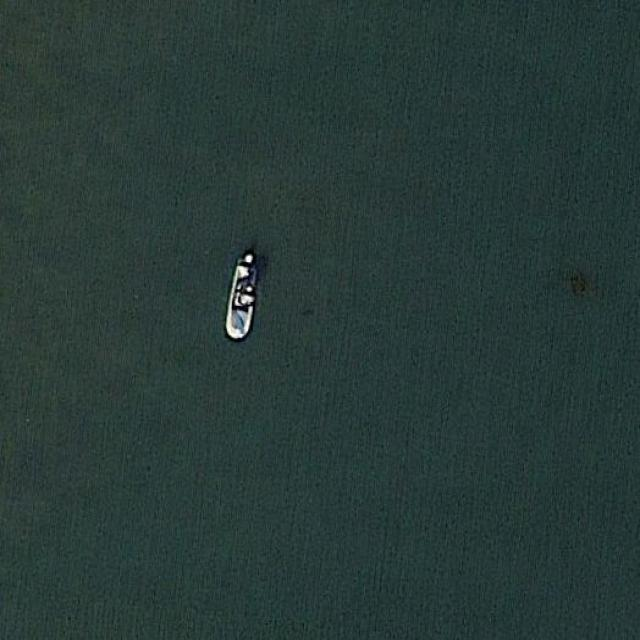ship: (222, 250, 260, 340)
